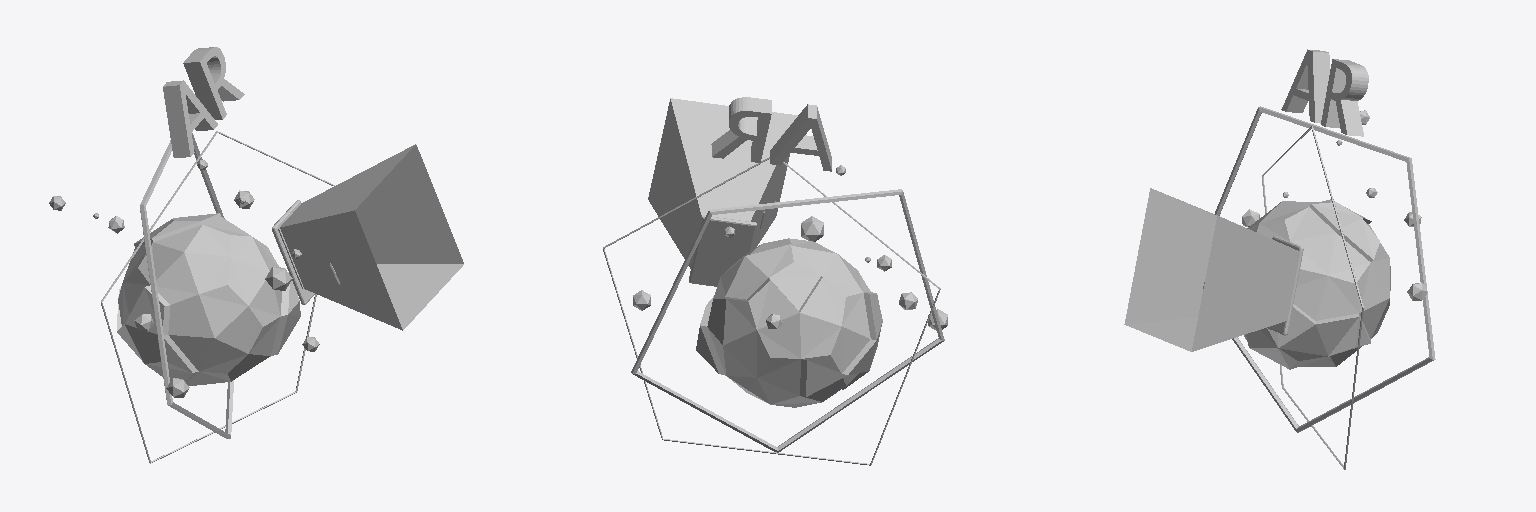
File: planet_ar.obj
3 views of the same model, side by side, from view 1: azimuth 30°, elevation 25°; view 2: azimuth 150°, elevation 25°; view 3: azimuth 270°, elevation 25° (orthographic).
Visible parts, largest first — view 1: planet, pCube9, AR, anillo_3, anillo_4, cel; view 2: planet, pCube9, anillo_3, AR, cel, anillo_4; view 3: pCube9, planet, AR, anillo_3, anillo_4, cel.
Part boxes in pixels (left/top/right/bottom): planet: left=117, top=213, right=300, bottom=385; pCube9: left=280, top=144, right=463, bottom=330; AR: left=163, top=47, right=244, bottom=157; anillo_3: left=140, top=133, right=233, bottom=438; anillo_4: left=101, top=131, right=334, bottom=463; cel: left=272, top=200, right=314, bottom=304; planet: left=696, top=238, right=882, bottom=407; pCube9: left=648, top=98, right=797, bottom=268; anillo_3: left=631, top=189, right=944, bottom=452; AR: left=711, top=97, right=831, bottom=171; cel: left=689, top=216, right=756, bottom=286; anillo_4: left=603, top=157, right=940, bottom=465; pCube9: left=1124, top=188, right=1299, bottom=351; planet: left=1244, top=199, right=1390, bottom=369; AR: left=1281, top=49, right=1368, bottom=136; anillo_3: left=1215, top=106, right=1435, bottom=432; anillo_4: left=1262, top=126, right=1363, bottom=469; cel: left=1267, top=236, right=1303, bottom=335.
Size of the model in its own units: 33.37 by 36.05 by 27.36.